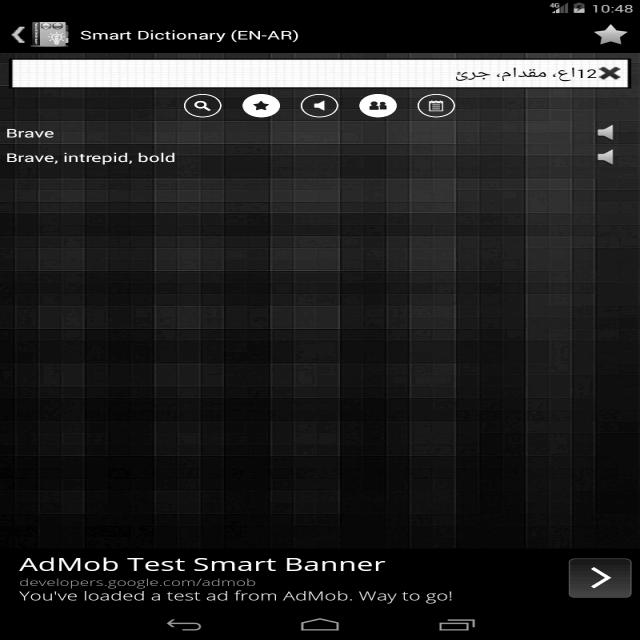Button: (559, 555, 637, 600)
ImageButton: (356, 92, 405, 119), (416, 90, 459, 118), (299, 93, 345, 118), (588, 23, 634, 47), (178, 95, 226, 115), (242, 94, 278, 114), (590, 122, 626, 140), (6, 22, 28, 47)
ImageView: (35, 21, 71, 49)
TextView: (23, 555, 454, 603), (85, 27, 312, 43), (4, 151, 180, 167), (452, 64, 590, 84), (3, 124, 74, 140)
